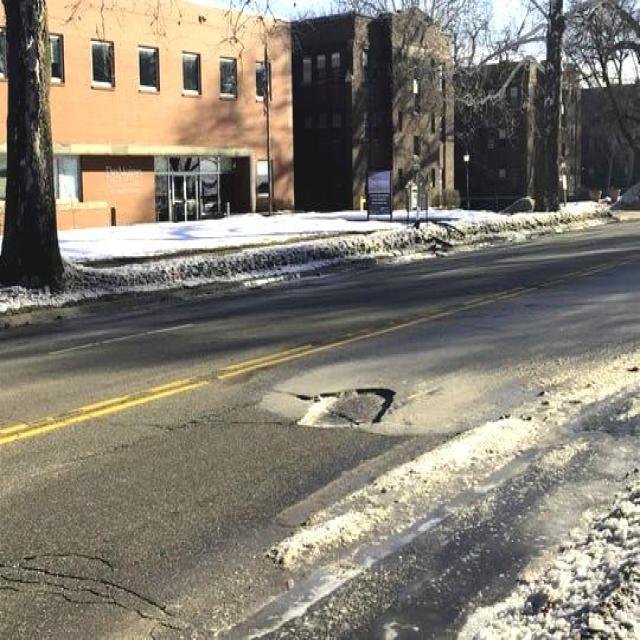pothole: (296, 386, 396, 433)
